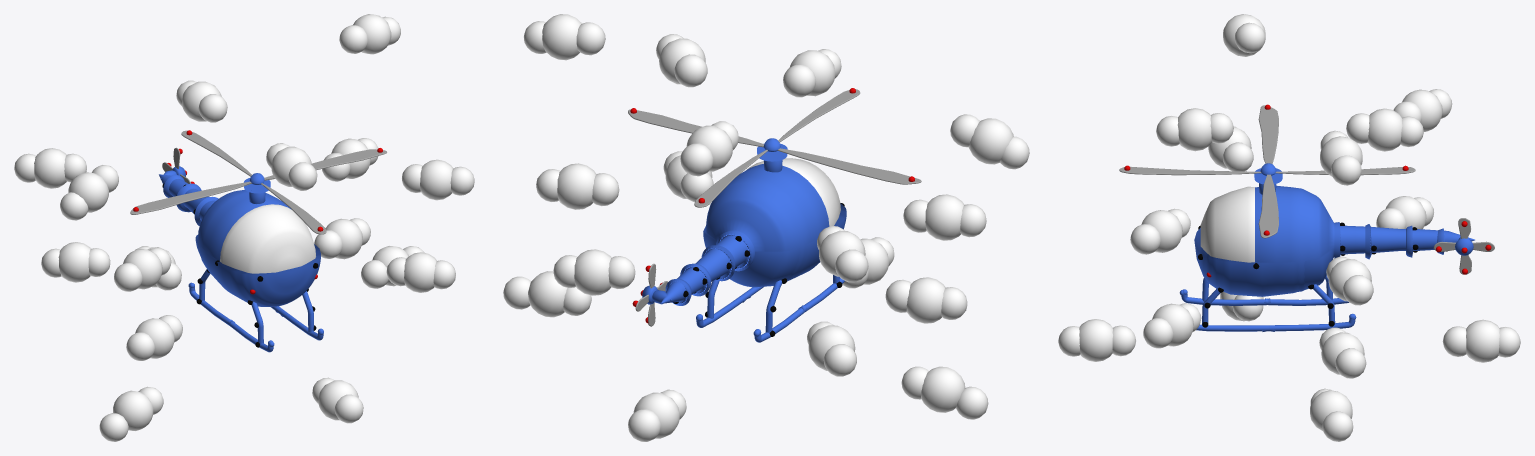
The model's file is helicopter_bot01.glb.
3 renders of one model, left to right at view 1: azimuth 30°, elevation 25°; view 2: azimuth 150°, elevation 25°; view 3: azimuth 270°, elevation 25°, orthographic. The views are drawn at different scales.
Parts seen in each view (by area): view 1: Object_8, Object_7, Object_10, Object_9, Object_5, Object_6, Object_11, Object_2, Object_12, Object_3; view 2: Object_7, Object_9, Object_6, Object_8, Object_10, Object_5, Object_11, Object_2, Object_12, Object_3, Object_4; view 3: Object_7, Object_10, Object_8, Object_6, Object_9, Object_5, Object_11, Object_2, Object_12, Object_3, Object_4.
Part boxes in pixels (x1,y1,x2,y2): Object_8: (14, 148, 474, 292); Object_7: (60, 14, 424, 441); Object_10: (135, 81, 363, 423); Object_9: (114, 80, 378, 360); Object_5: (195, 192, 320, 306); Object_6: (159, 174, 291, 266); Object_11: (130, 147, 386, 214); Object_2: (194, 177, 323, 344); Object_12: (181, 130, 326, 234); Object_3: (160, 170, 323, 352); Object_7: (503, 14, 1029, 438); Object_9: (536, 49, 986, 323); Object_6: (661, 164, 829, 303); Object_8: (592, 34, 928, 376); Object_10: (628, 50, 894, 441); Object_5: (703, 160, 846, 287); Object_11: (628, 109, 921, 326); Object_2: (696, 143, 839, 332); Object_12: (694, 89, 860, 207); Object_3: (652, 263, 844, 342); Object_4: (642, 138, 780, 305); Object_7: (1079, 14, 1499, 441); Object_10: (1058, 108, 1520, 357); Object_8: (1130, 89, 1452, 348); Object_6: (1255, 185, 1474, 291); Object_9: (1156, 113, 1423, 378); Object_5: (1194, 183, 1333, 296); Object_11: (1258, 105, 1494, 274); Object_2: (1196, 168, 1371, 331); Object_12: (1119, 166, 1415, 175); Object_3: (1179, 225, 1469, 319); Object_4: (1260, 163, 1473, 255).
Size of the model in its own units: 8.09 by 5.92 by 7.49.
